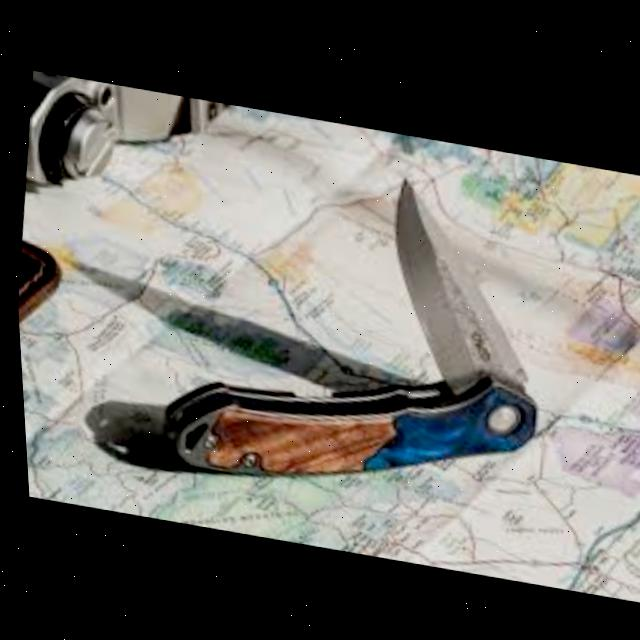Knife: (59, 122, 562, 522)
